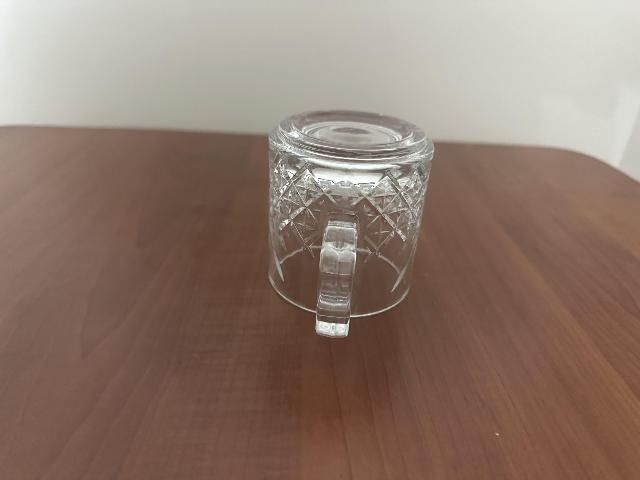Cam: (265, 107, 436, 342)
